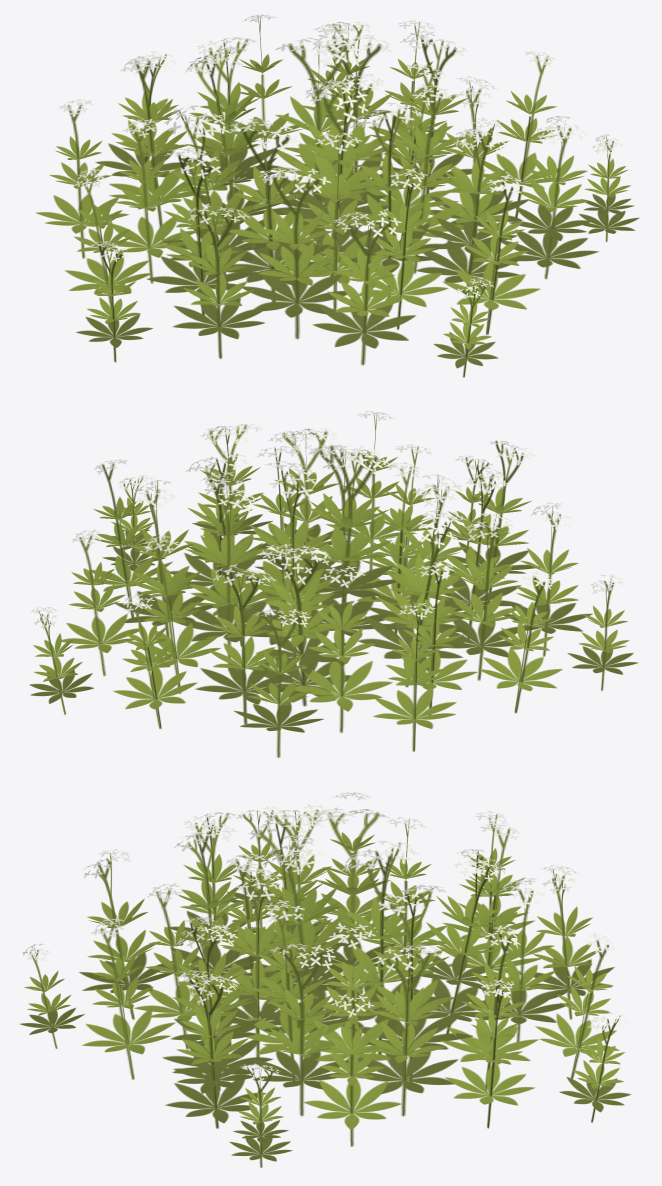
Rendered from Woodruff_Cluster_1.glb.
3 renders of one model, top to bottom at view 1: azimuth 30°, elevation 25°; view 2: azimuth 150°, elevation 25°; view 3: azimuth 270°, elevation 25°, orthographic. The views are drawn at different scales.
Parts seen in each view (by area): view 1: Woodruff_Cluster_1; view 2: Woodruff_Cluster_1; view 3: Woodruff_Cluster_1.
Part boxes in pixels (x1,y1,x2,y2): Woodruff_Cluster_1: (36, 14, 639, 377); Woodruff_Cluster_1: (29, 411, 638, 757); Woodruff_Cluster_1: (20, 792, 630, 1167).
Size of the model in its own units: 1.54 by 0.5556 by 1.48.
1 material, 1 textured.
